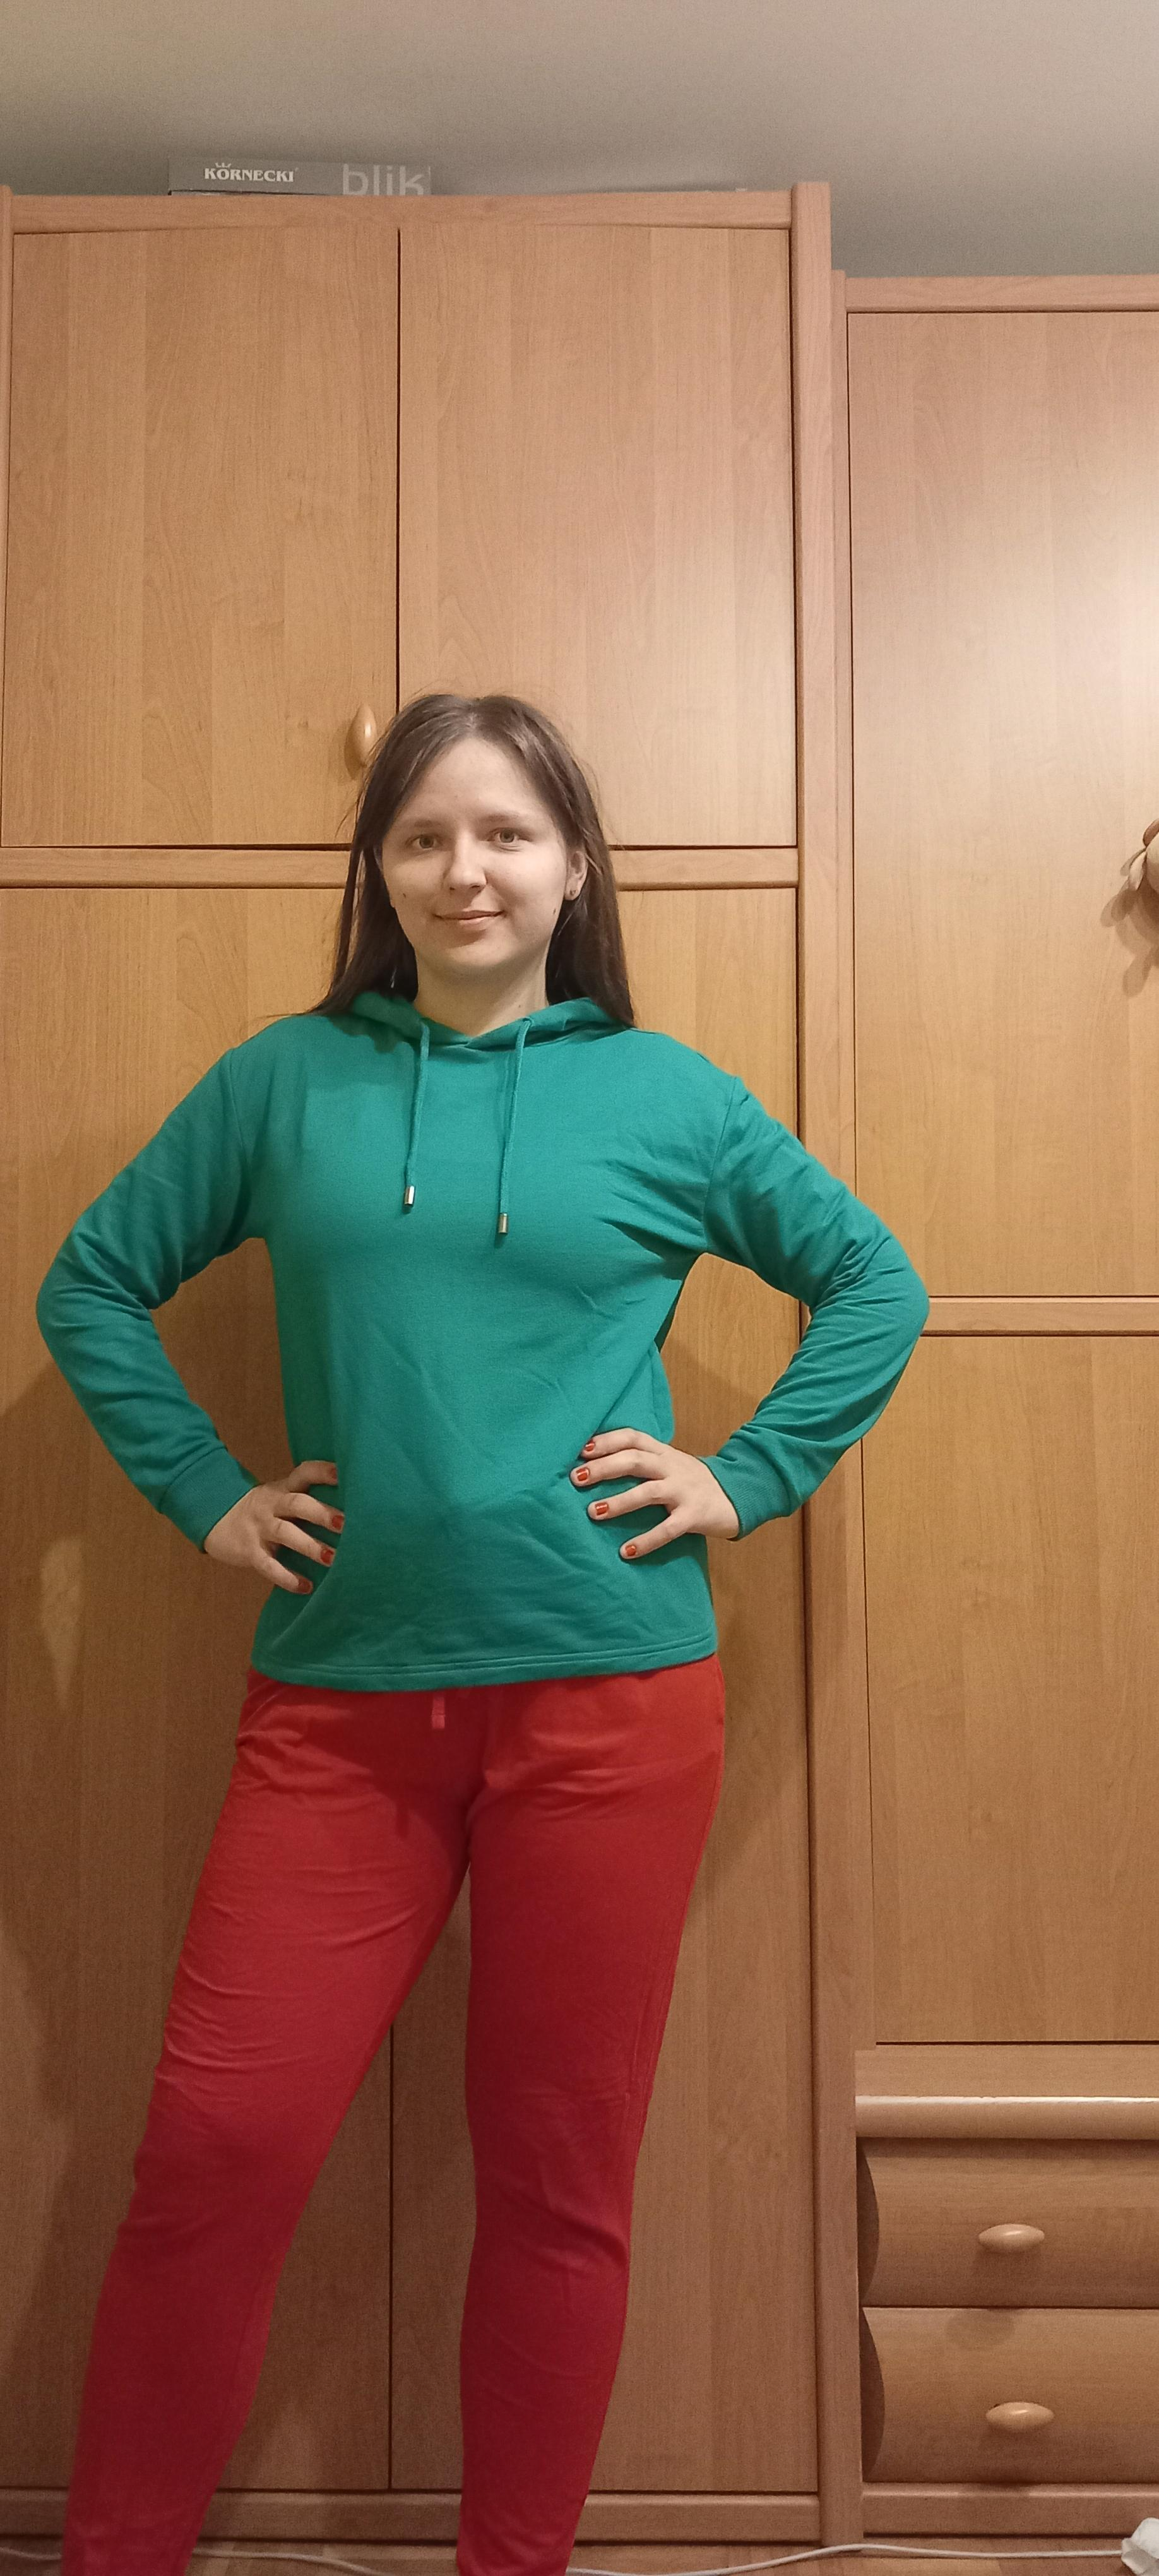pants: (64, 1659, 726, 2576)
sweater: (36, 992, 932, 1689)
